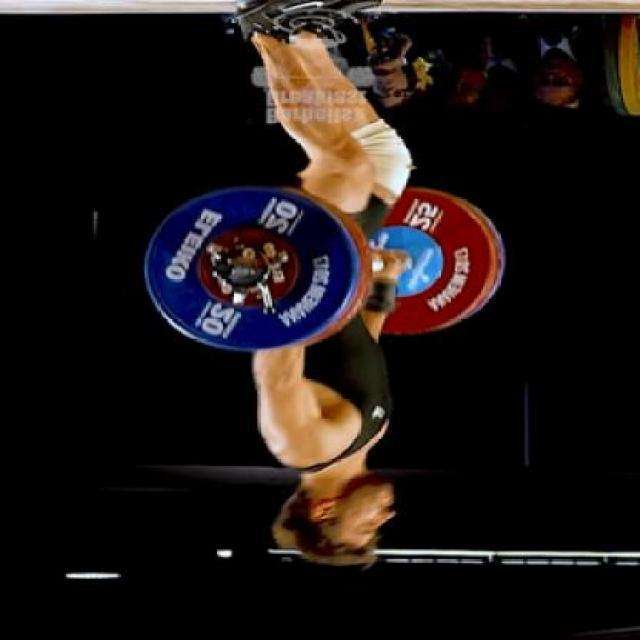Barbell: (210, 258, 238, 282)
